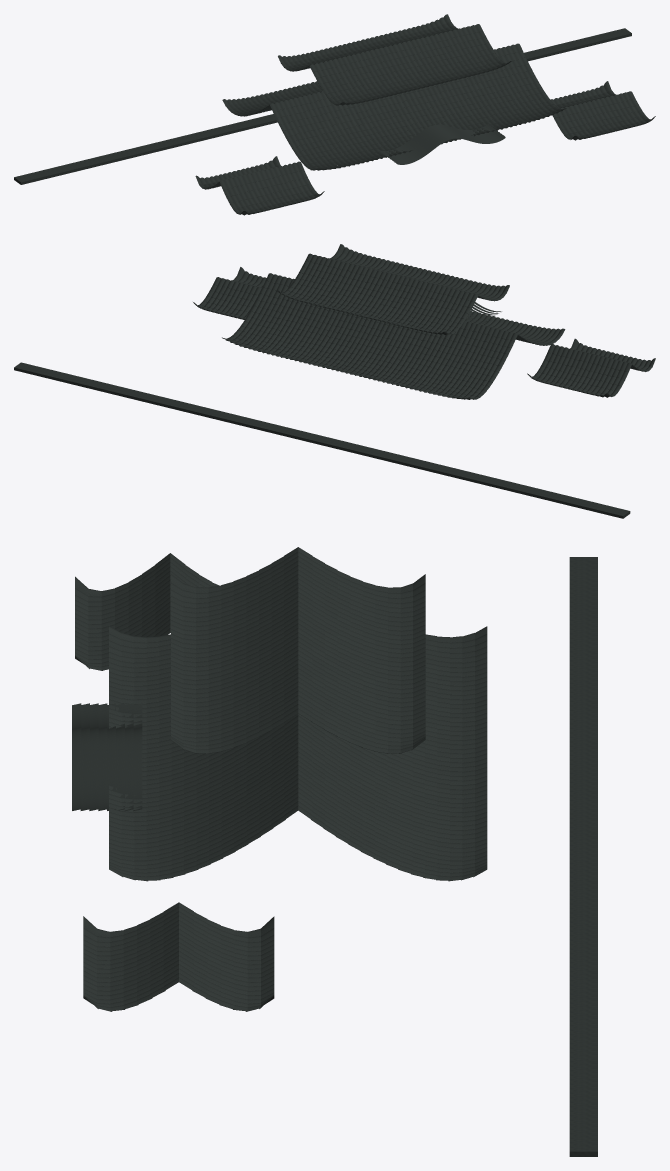
Rendered from roof-tiles.glb.
3 renders of one model, top to bottom at view 1: azimuth 30°, elevation 25°; view 2: azimuth 150°, elevation 25°; view 3: azimuth 270°, elevation 25°, orthographic. The views are drawn at different scales.
Parts seen in each view (by area): view 1: Charcoal glazed ceramic; view 2: Charcoal glazed ceramic; view 3: Charcoal glazed ceramic.
Boxes of the visible parts, x1,y1,x2,y2 form: Charcoal glazed ceramic: (14,14,655,215); Charcoal glazed ceramic: (14,244,655,518); Charcoal glazed ceramic: (72,547,597,1156).
Size of the model in its own units: 33 by 6 by 12.34.
1 material, 1 textured.
